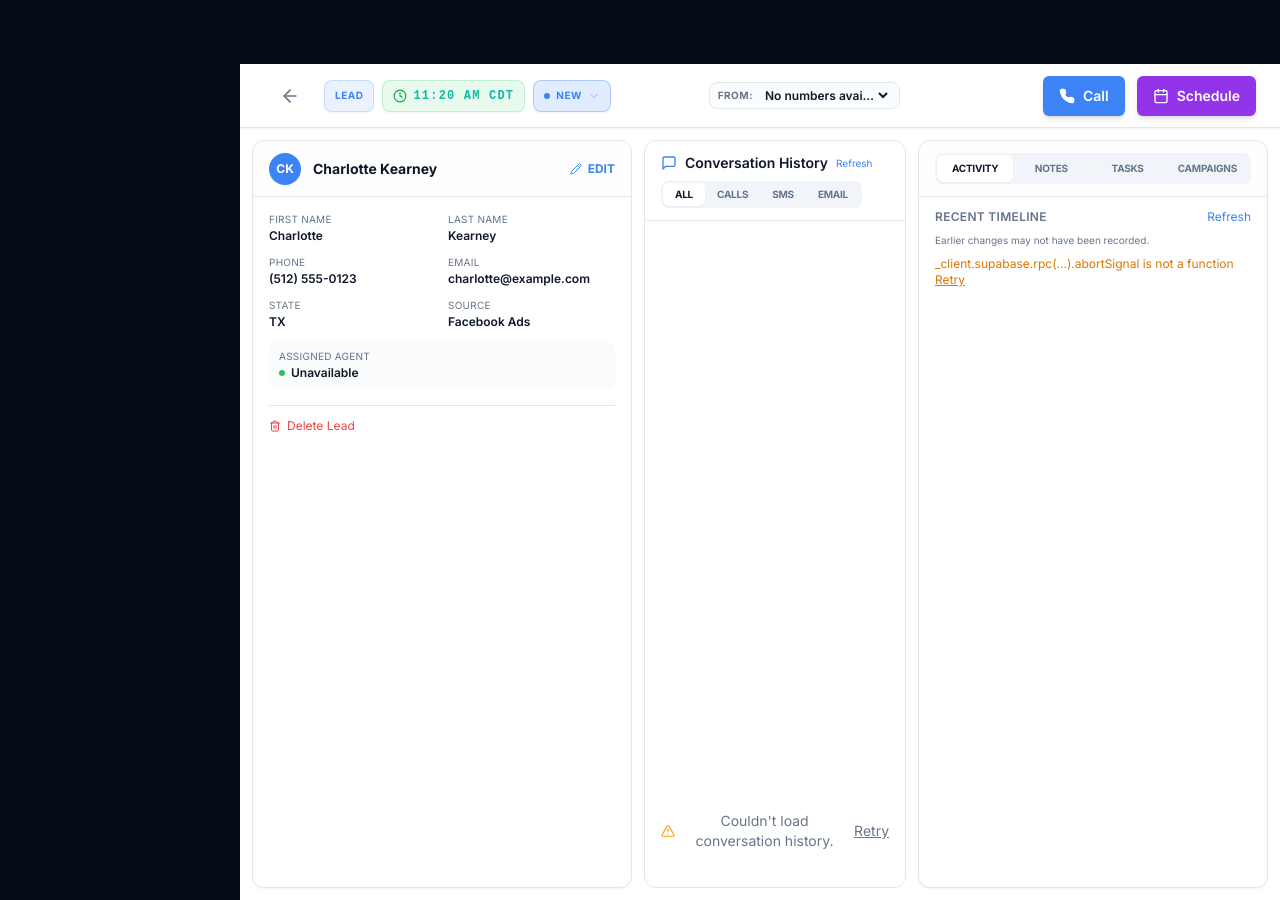
Scenario: D2 — the returned row becomes the parent, so ACTIONS use the saved values › an email change reaches the parent contact, so the compose path targets the new address
Expected: the button "Call" is shown, [1043,76,1125,116]
Click the button "EDIT" at (592, 168), box [570,160,615,176]
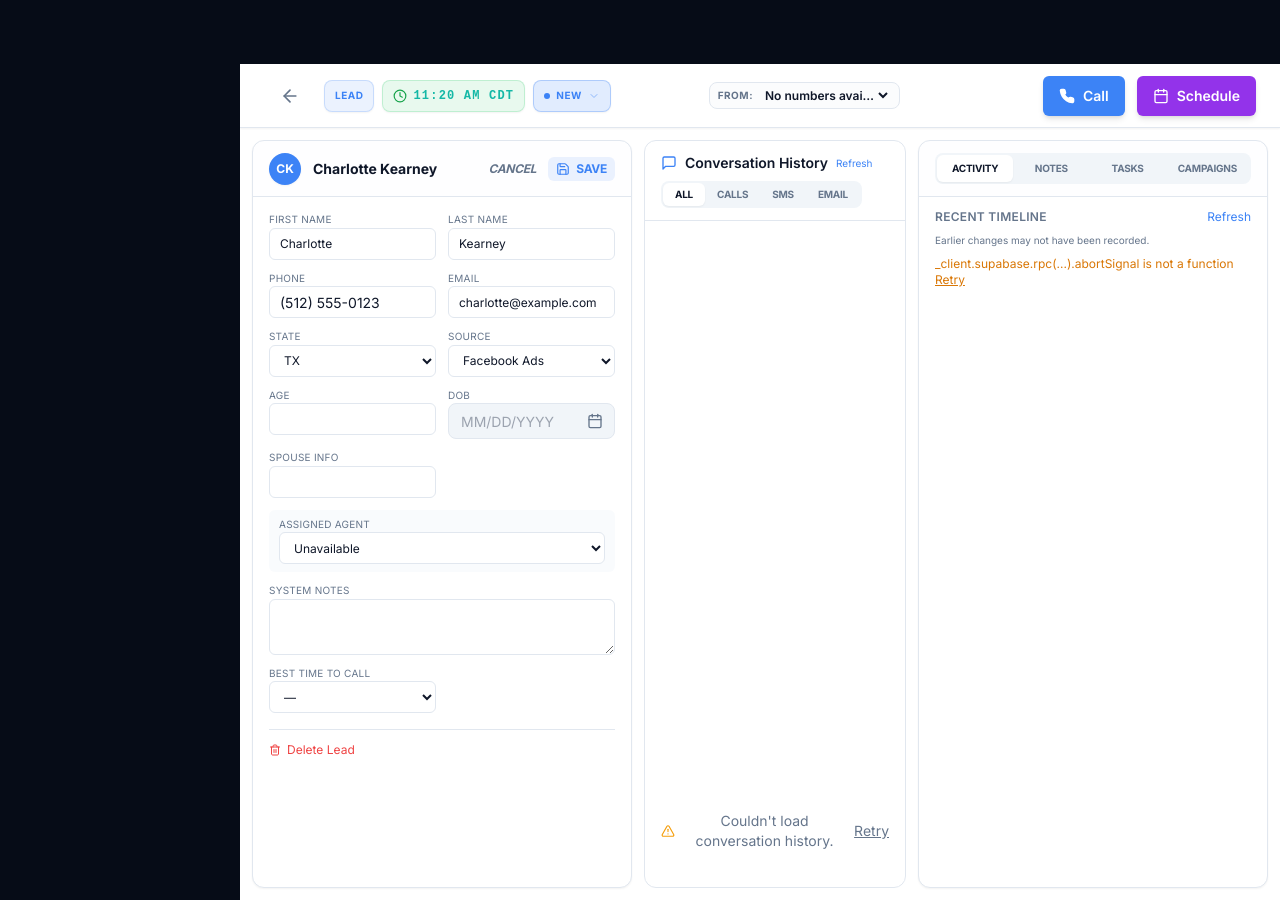
Replace the text in the field showing "charlotte@example.com" with "new@example.com" at (532, 302), box [448,286,615,318]
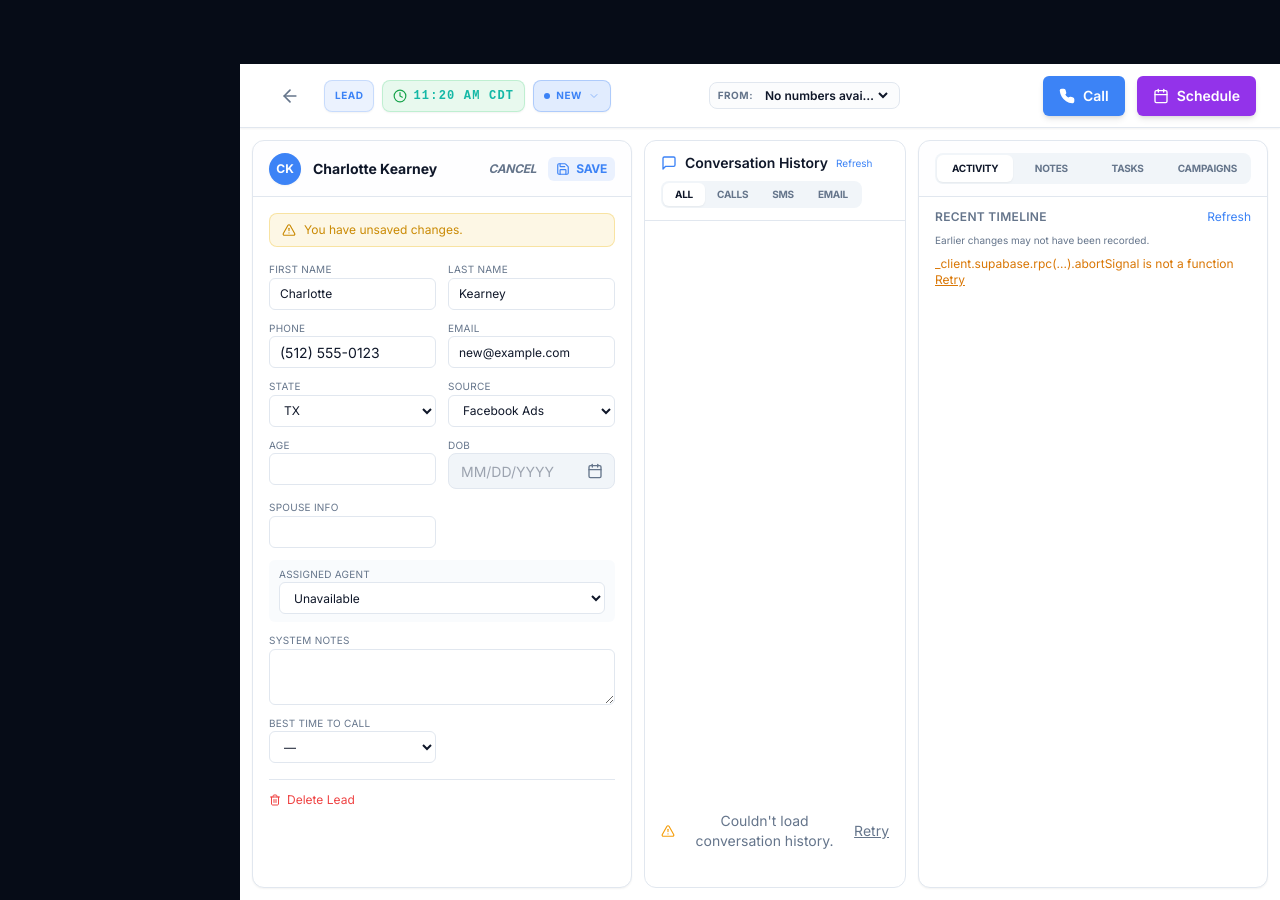
Click the button "SAVE" at (582, 168), box [548,156,615,180]
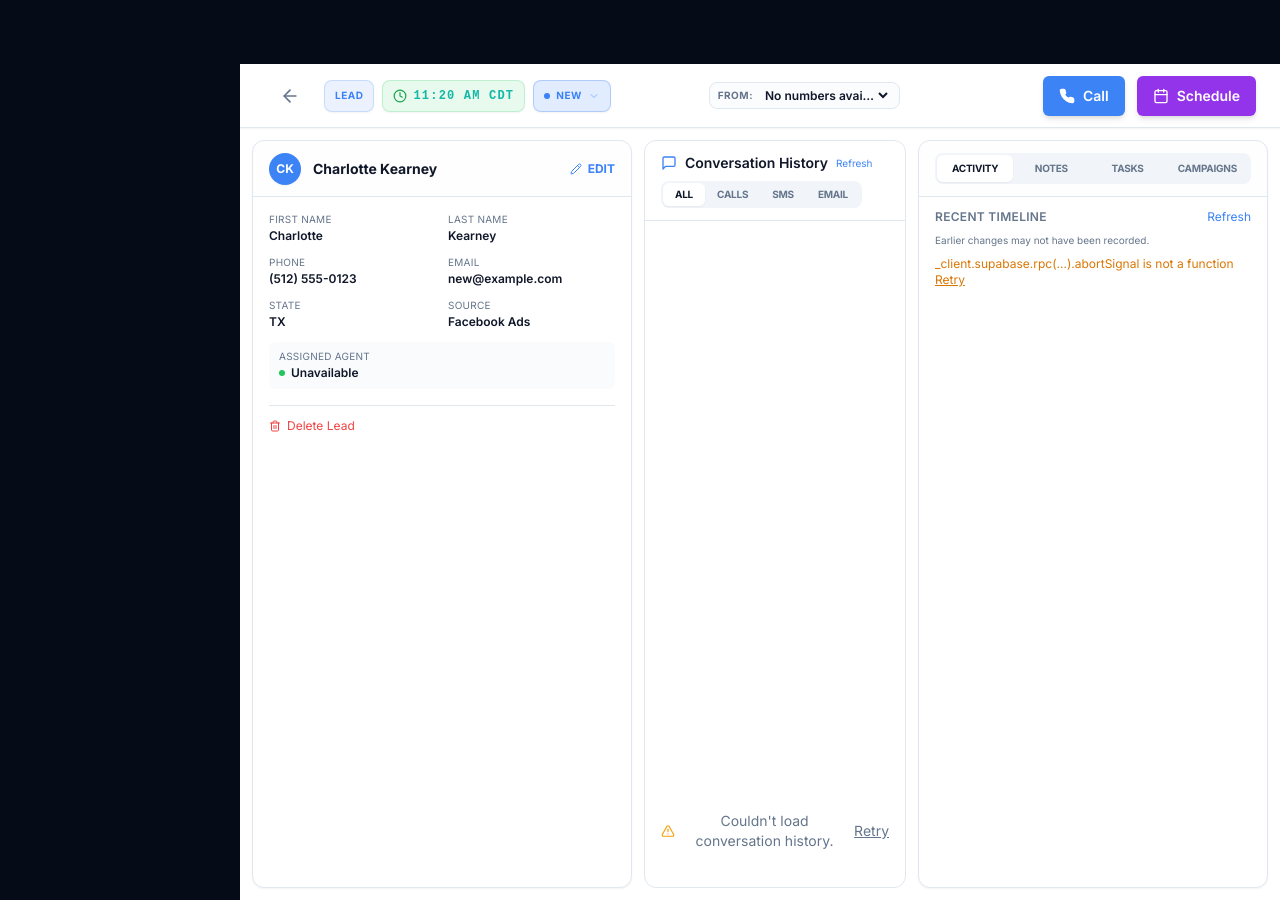
Expected: the text "charlotte@example.com" is not shown
Result: the text "new@example.com" is shown at [448,270,562,287]
